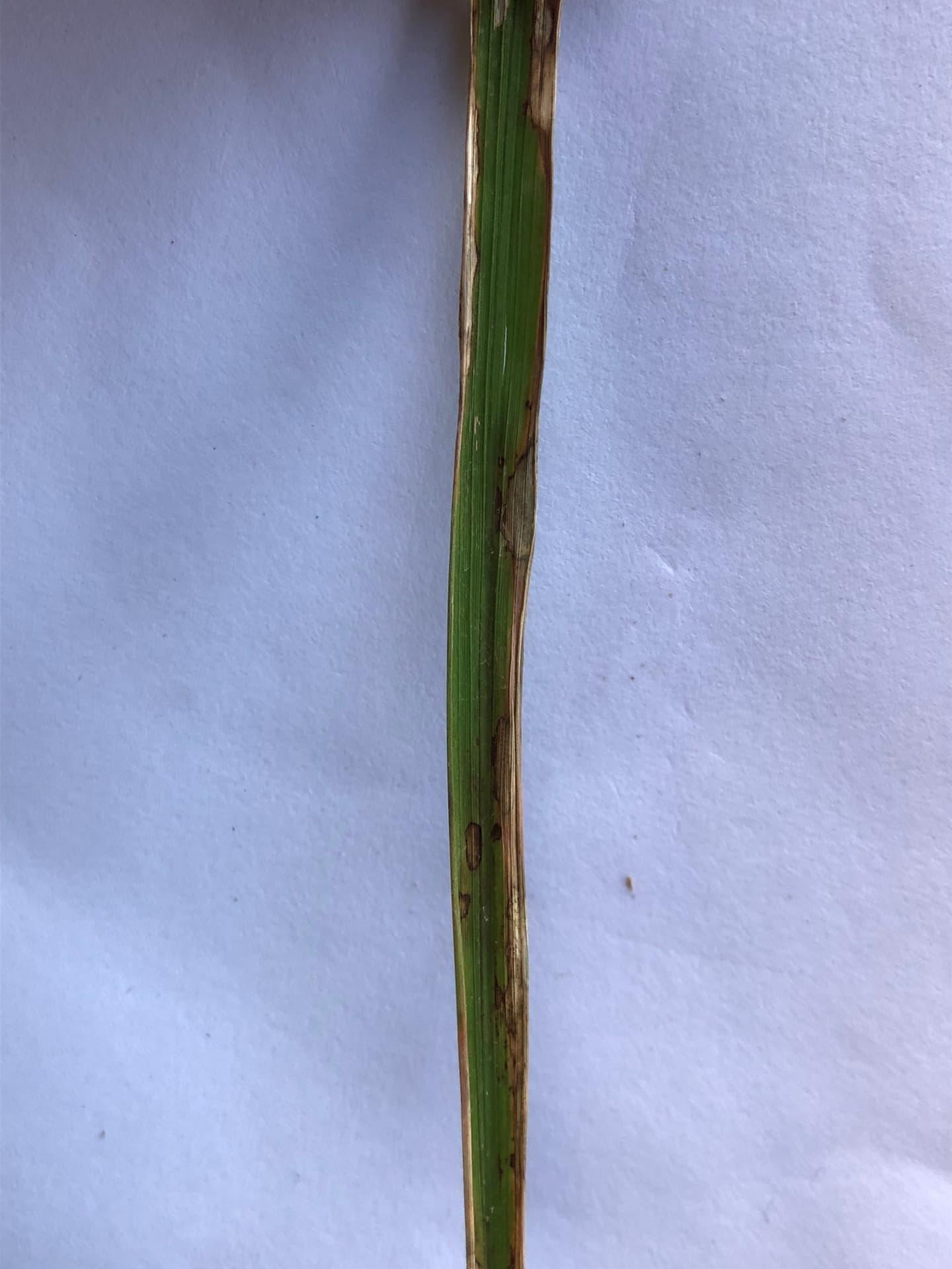Leaf Blight: (496, 0, 561, 598), (494, 438, 535, 1268), (452, 0, 483, 494), (453, 892, 475, 1268), (464, 823, 487, 871), (493, 0, 510, 29)
